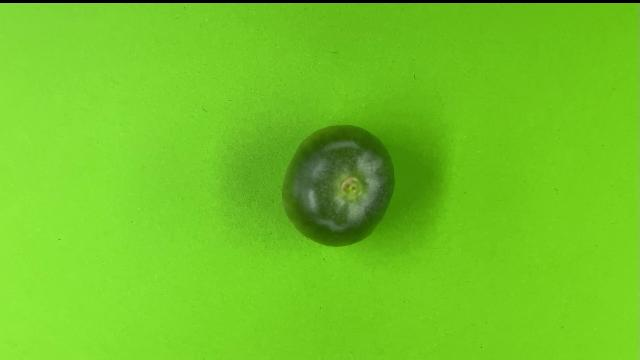Fruit Maturation: (280, 123, 395, 248)
